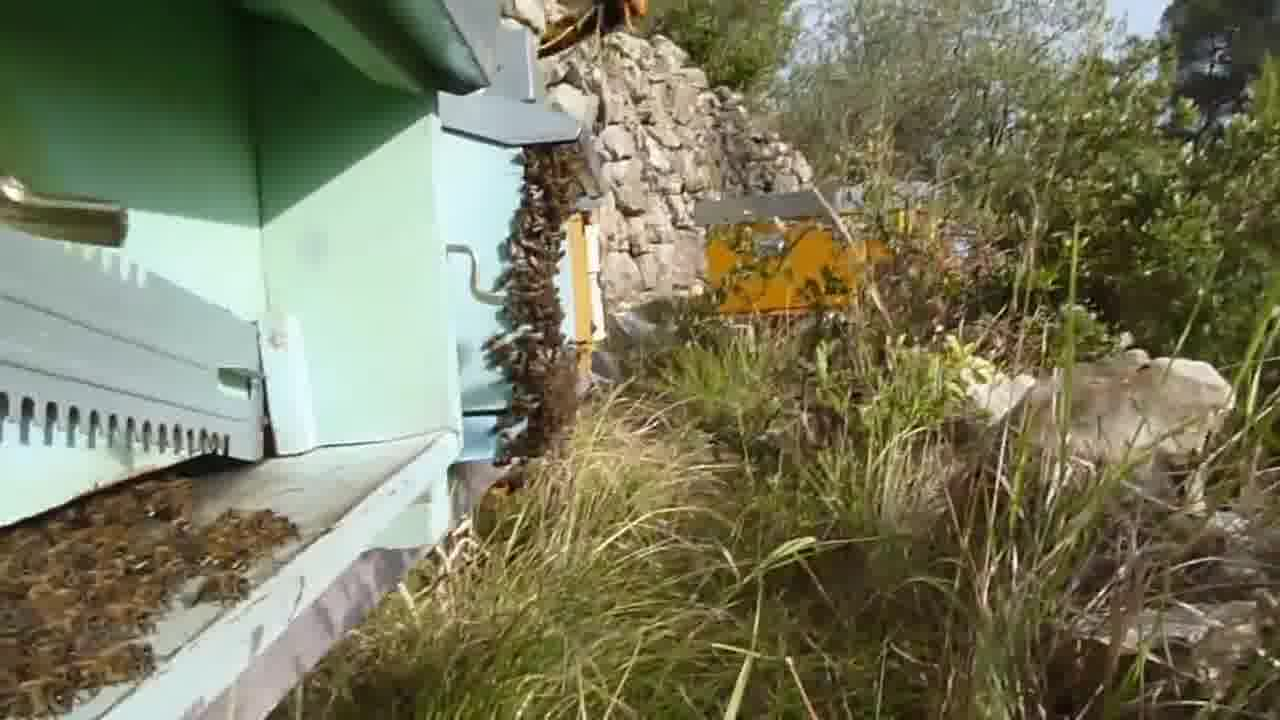bee: (4, 523, 187, 615), (1, 609, 146, 705), (497, 223, 569, 325), (188, 504, 302, 568), (510, 137, 588, 219), (489, 327, 579, 391), (499, 393, 581, 463), (85, 480, 192, 529), (197, 567, 250, 611)
hornet: (523, 1, 660, 57)
